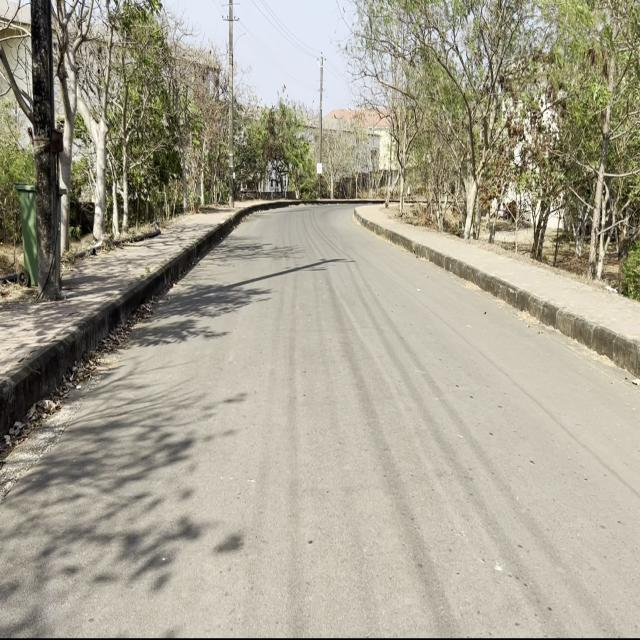Road: (4, 206, 637, 632)
